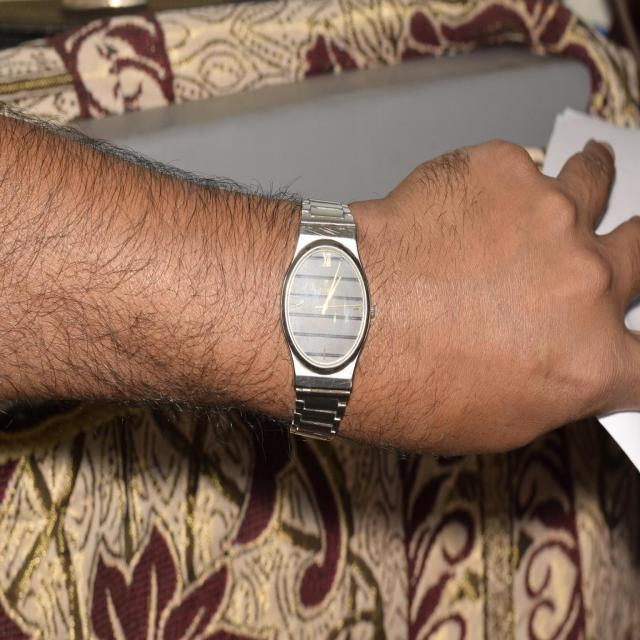Wrist watch: (281, 196, 374, 444)
